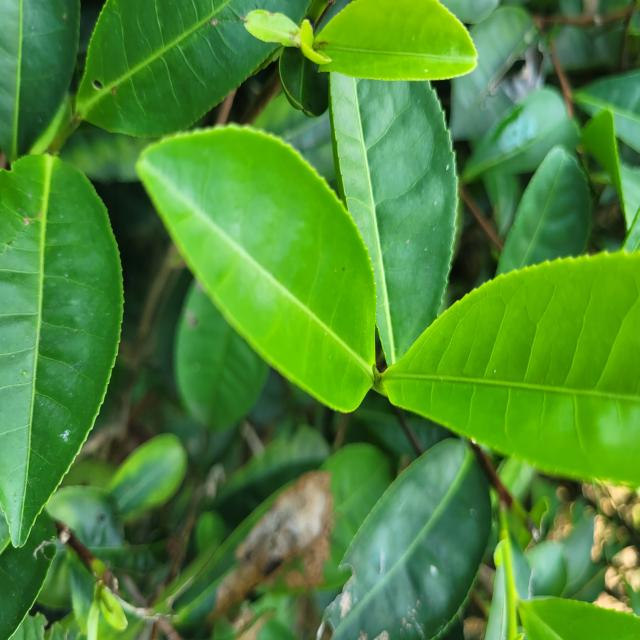Catagory A(1-2 days): (124, 112, 386, 435)
